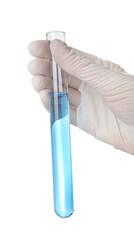Test tube: (41, 29, 85, 222)
